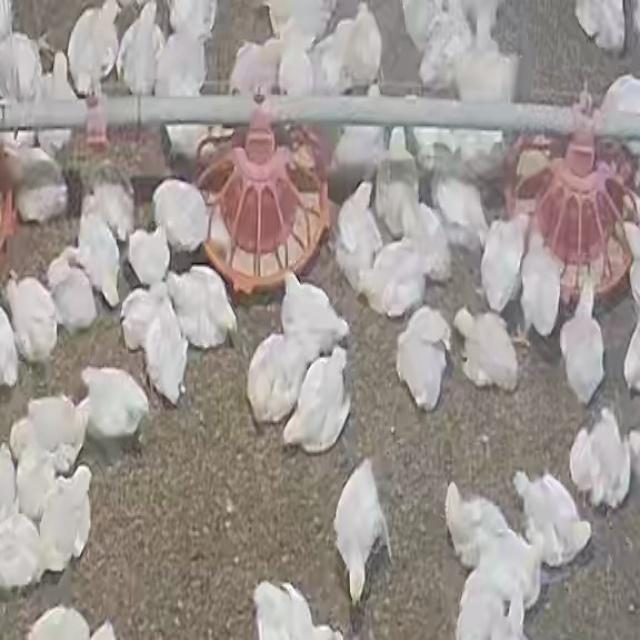chicken: (332, 459, 387, 608), (278, 342, 349, 451), (514, 469, 592, 565), (356, 233, 432, 322), (38, 462, 93, 574), (566, 415, 631, 508), (432, 146, 489, 248), (250, 336, 319, 420), (395, 314, 454, 412), (166, 265, 236, 346), (453, 540, 547, 600), (80, 361, 150, 441), (252, 583, 350, 640), (282, 266, 348, 350), (475, 214, 529, 314), (457, 305, 522, 388), (373, 129, 423, 236), (560, 280, 601, 408), (3, 274, 64, 358), (63, 0, 119, 91), (77, 209, 127, 309), (338, 179, 378, 303), (514, 234, 562, 337), (440, 486, 506, 559), (151, 18, 213, 95), (5, 398, 84, 458), (5, 146, 69, 220), (116, 2, 165, 95), (143, 307, 190, 402), (81, 159, 138, 233), (398, 199, 450, 280), (152, 180, 208, 252), (572, 0, 638, 57), (40, 52, 80, 146), (18, 445, 79, 505), (456, 591, 530, 640), (341, 6, 385, 86), (122, 282, 172, 352), (228, 34, 280, 97), (0, 517, 46, 584), (50, 260, 92, 332), (126, 218, 170, 284)
